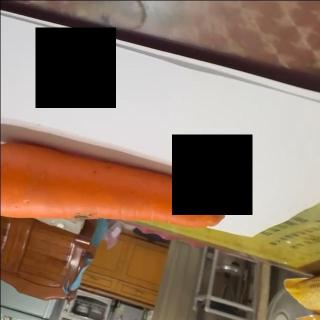carrot: (0, 141, 226, 229)
